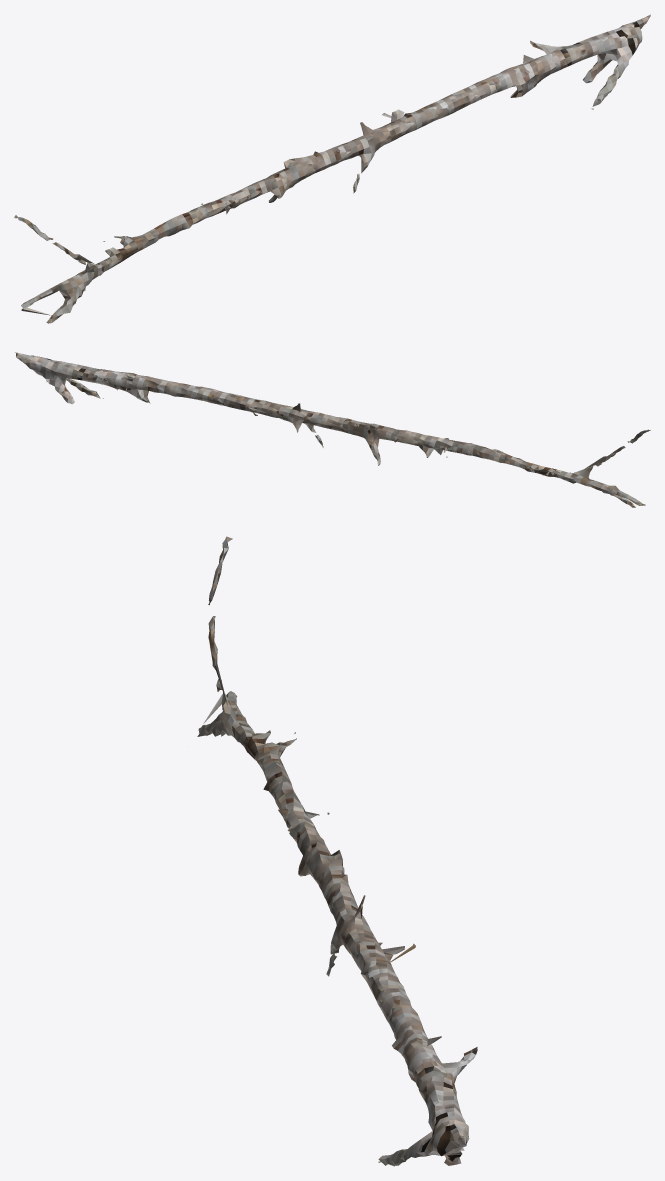
Rendered from Branch.fbx.
The picture shows the model from 3 angles, top to bottom: view 1: azimuth 30°, elevation 25°; view 2: azimuth 150°, elevation 25°; view 3: azimuth 270°, elevation 25°; orthographic projection. The views are drawn at different scales.
Visible parts, largest first — view 1: Pine Tree Fallen Trunk PBR Scan; view 2: Pine Tree Fallen Trunk PBR Scan; view 3: Pine Tree Fallen Trunk PBR Scan.
Boxes of the visible parts, box(x1,y1,x2,y2) form: Pine Tree Fallen Trunk PBR Scan: box(14, 14, 650, 323); Pine Tree Fallen Trunk PBR Scan: box(15, 352, 650, 507); Pine Tree Fallen Trunk PBR Scan: box(197, 536, 477, 1166).
Bounding box in the file's own units: 853 × 124 × 186.
1 material, 1 textured.
